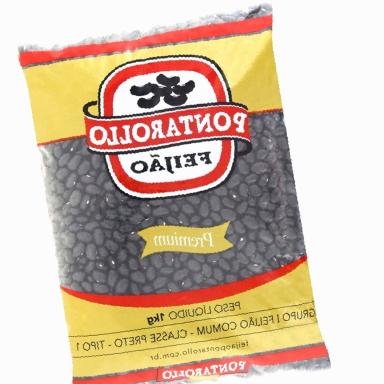beans package: (20, 6, 329, 383)
